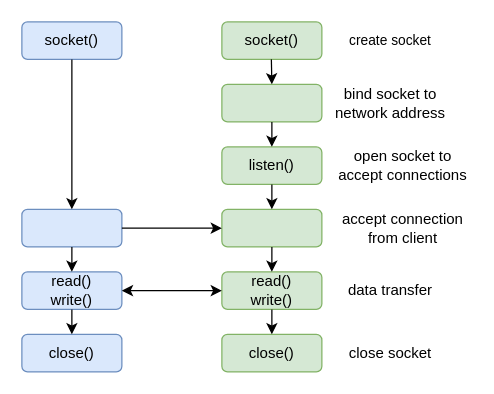
The diagram is 494 pixels wide and 394 high, and some of its shapes have lost their labels. Each missing label, with the centre of its shape:
"accept()" belongs at (271,227).
"bind()" belongs at (271,102).
"connect()" belongs at (71,227).
